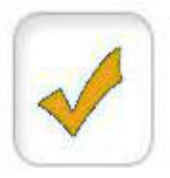CheckBox: (1, 1, 169, 177)
